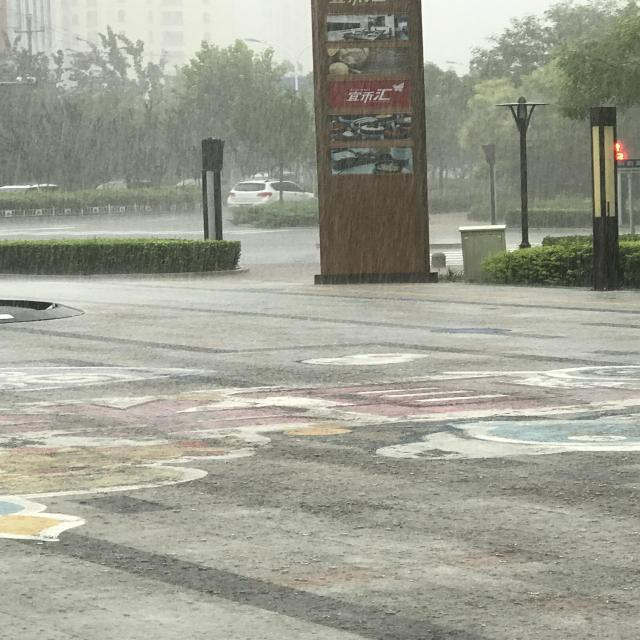car: (181, 320, 211, 414)
